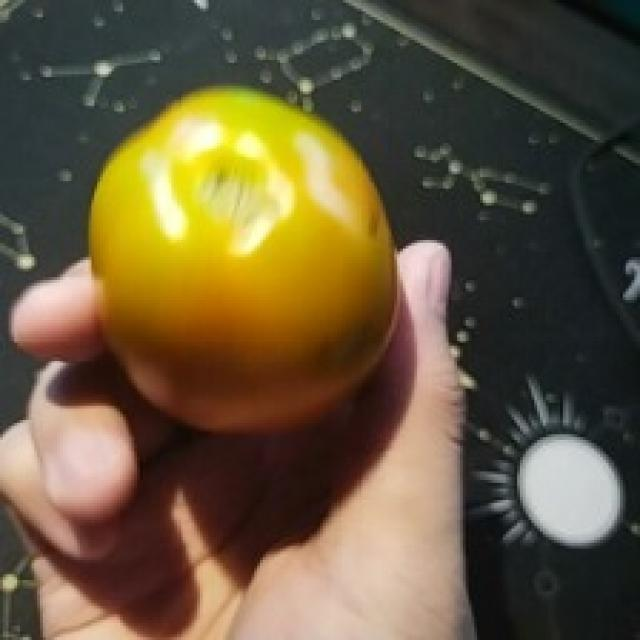tomato: (86, 86, 394, 434)
